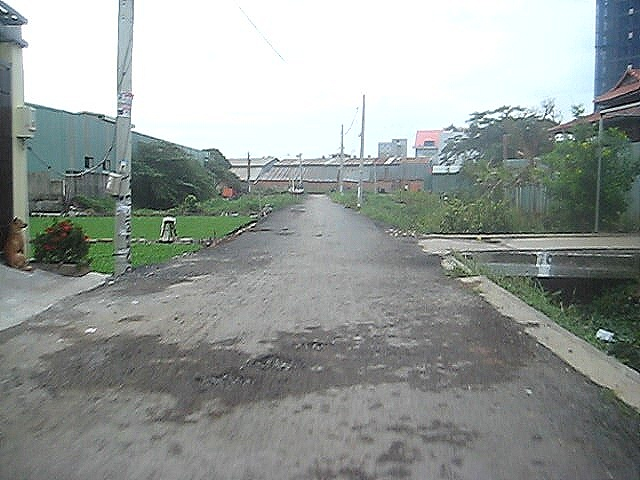hole: (196, 370, 252, 387), (246, 353, 302, 370), (293, 337, 340, 350)
